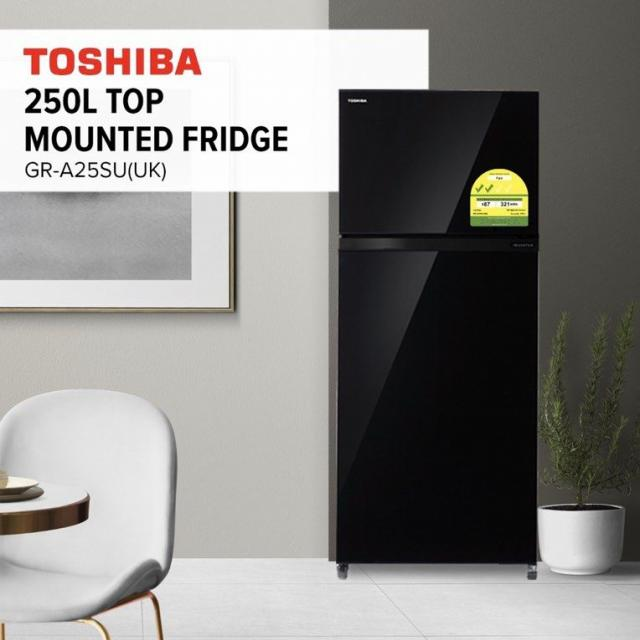refrigerator: (329, 90, 544, 583)
